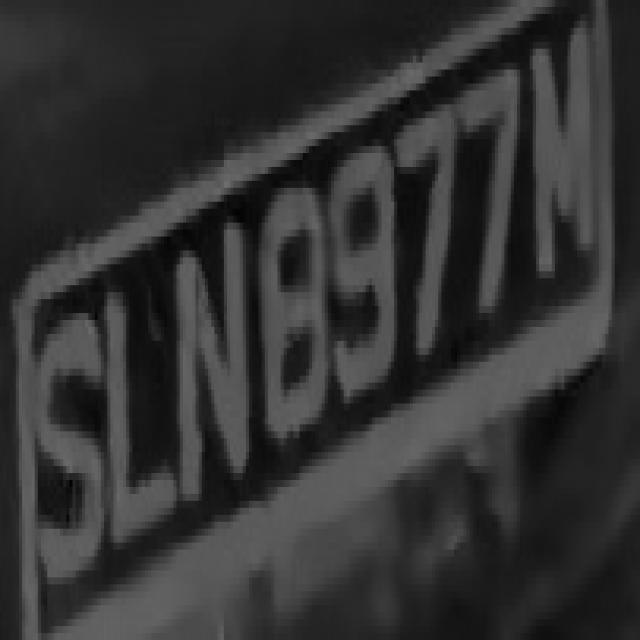7: (378, 98, 464, 390), (450, 69, 530, 348)
8: (256, 160, 340, 473)
9: (315, 111, 407, 418)
L: (104, 272, 180, 564)
M: (520, 7, 606, 306)
N: (174, 188, 252, 515)
S: (25, 292, 104, 619)
